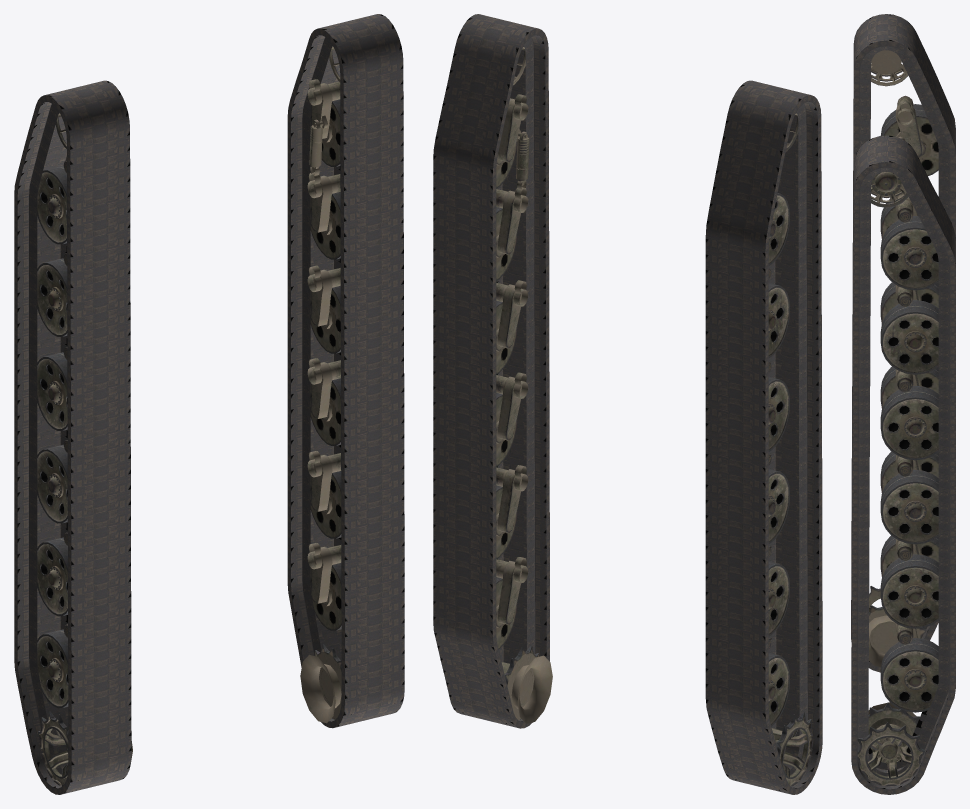
File: Chassis.glb
3 renders of one model, left to right at view 1: azimuth 30°, elevation 25°; view 2: azimuth 150°, elevation 25°; view 3: azimuth 270°, elevation 25°, orthographic. The views are drawn at different scales.
Parts seen in each view (by area): view 1: set_0_group_0, set_1_group_0, set_3_group_0, set_2_group_0; view 2: set_0_group_0, set_1_group_0, set_3_group_0, set_2_group_0; view 3: set_3_group_0, set_1_group_0, set_2_group_0, set_0_group_0.
Boxes of the visible parts, x1,y1,x2,y2 form: set_0_group_0: (14,80,131,794); set_1_group_0: (287,14,404,728); set_3_group_0: (300,46,395,724); set_2_group_0: (37,113,132,791); set_0_group_0: (705,80,822,794); set_1_group_0: (433,14,549,728); set_3_group_0: (457,47,552,724); set_2_group_0: (730,113,813,790); set_3_group_0: (857,171,938,786); set_1_group_0: (851,135,955,794); set_2_group_0: (869,50,938,667); set_0_group_0: (851,14,955,672).
Size of the model in its own units: 3.06 by 6.11 by 0.917.
Materials: 4 (4 with a texture image).
